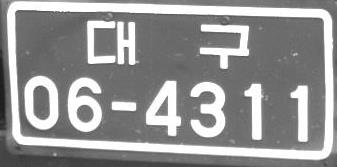0: (23, 73, 59, 129)
1: (238, 82, 273, 141), (285, 84, 319, 143)
3: (189, 80, 226, 138)
4: (145, 79, 180, 136)
6: (66, 75, 102, 134)
대구_D: (86, 18, 249, 71)
